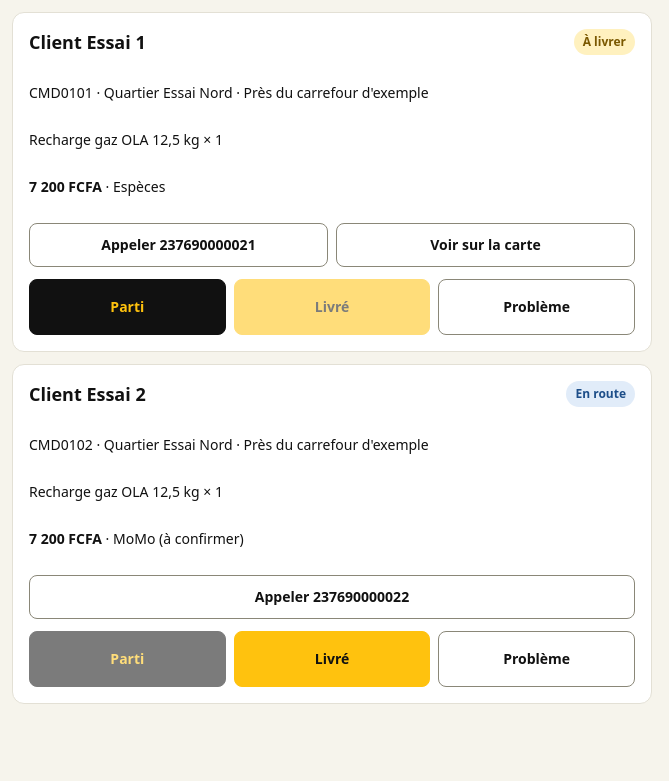
mode livreur › un paiement mobile non confirmé se règle en espèces ; un problème demande une note
Expected: the element "CMD0102" is shown, [12,364,652,704]
Expected: the text "7 200 FCFA · MoMo (à confirmer)" is shown, [29,529,244,548]
Click the button "Livré" below "Appeler 237690000022": (332, 659) [234,631,430,687]
(page scrolled)
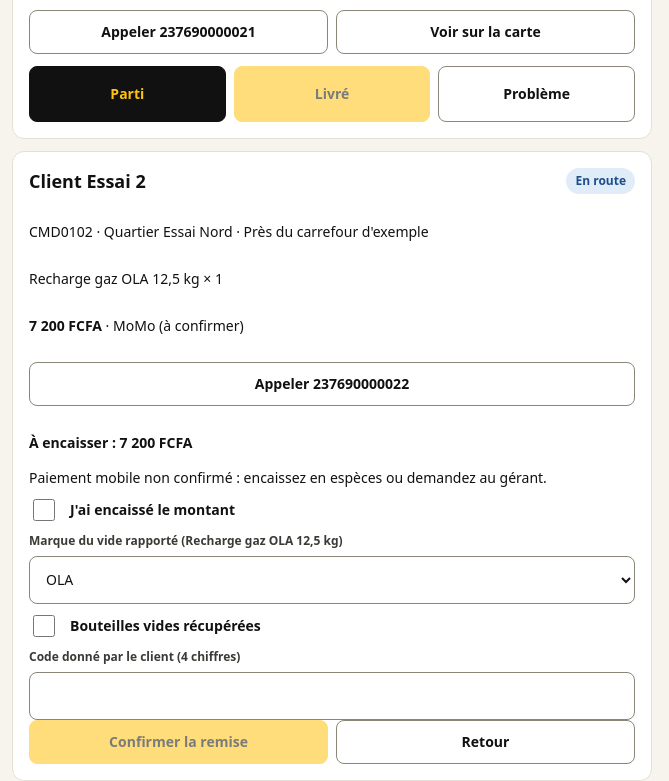
Expected: the text "encaissez en espèces" is shown, [29,468,547,487]
Click the button "Retour": (486, 742) [336,720,635,764]
(page scrolled)
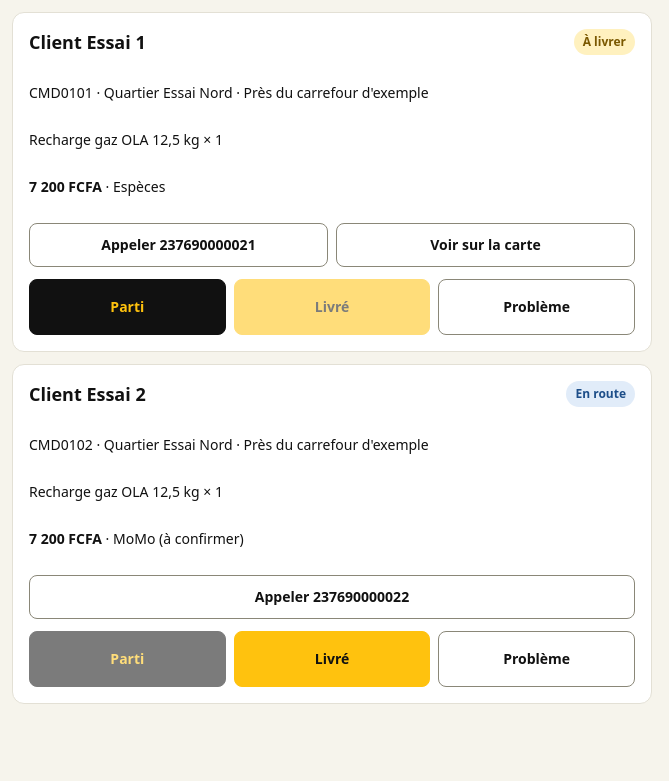
Click the button "Problème" below "Appeler 237690000022": (537, 659) [438,631,635,687]
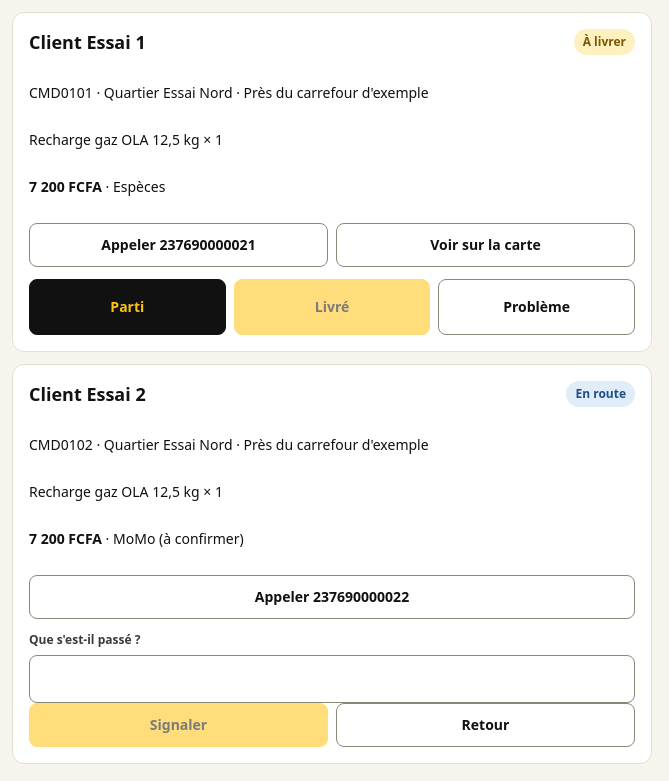
Expected: the button "Signaler" is disabled, [29,703,328,747]
In the field labelled "Que s'est-il passé ?": (332, 679) [29,655,635,703], type "Client absent"
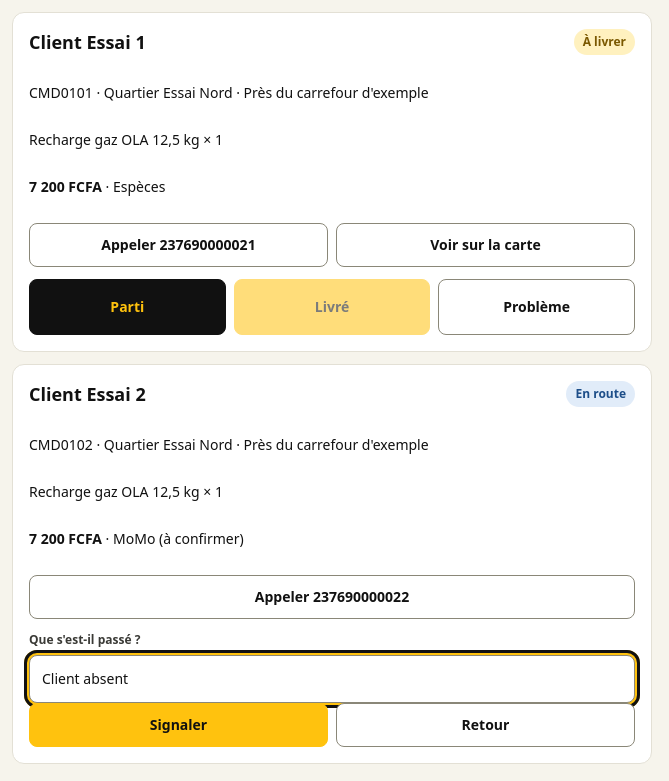
Click the button "Signaler": (178, 725) [29,703,328,747]
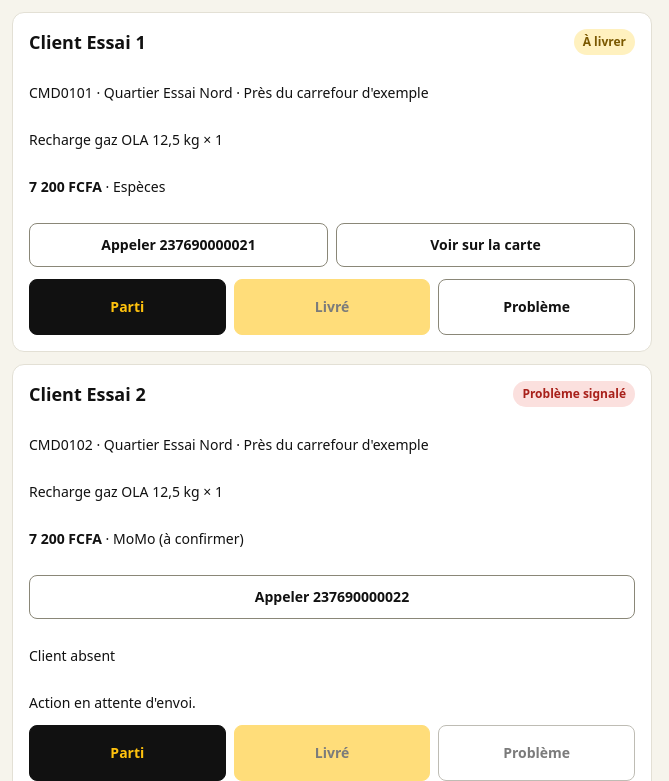
Expected: the text "Client absent" is shown, [29,646,115,665]
Expected: the button "Parti" below "Action en attente d'envoi." is enabled, [29,725,226,780]
